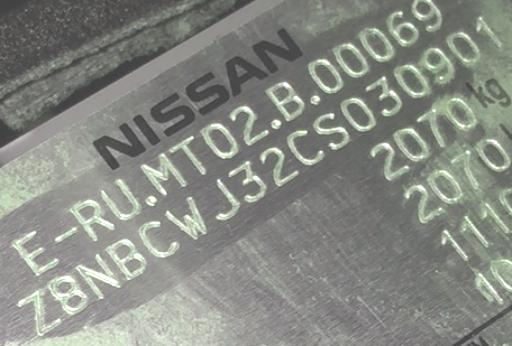letter: (106, 237, 148, 282), (18, 290, 60, 334), (78, 253, 120, 296), (168, 196, 210, 238), (139, 218, 179, 259), (260, 146, 300, 186), (50, 273, 88, 315), (286, 127, 324, 167), (230, 161, 266, 203), (312, 111, 350, 150), (392, 62, 430, 99), (366, 77, 402, 116), (421, 47, 455, 85), (210, 177, 240, 220), (447, 29, 481, 66), (340, 97, 376, 131), (475, 13, 505, 51)
